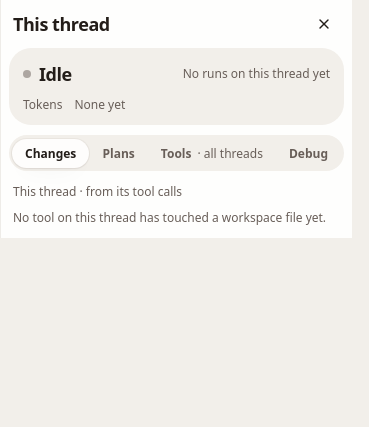
it: the plans tab › says "All threads" when the harness did not filter
Click the tab "Plans": x=119, y=153 [89,139,148,168]
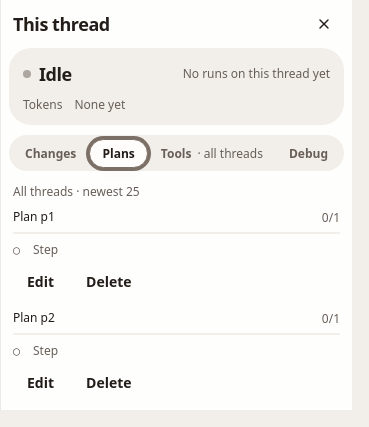
Now the text "All threads · newest 25" is shown, box [13,183,140,200]
